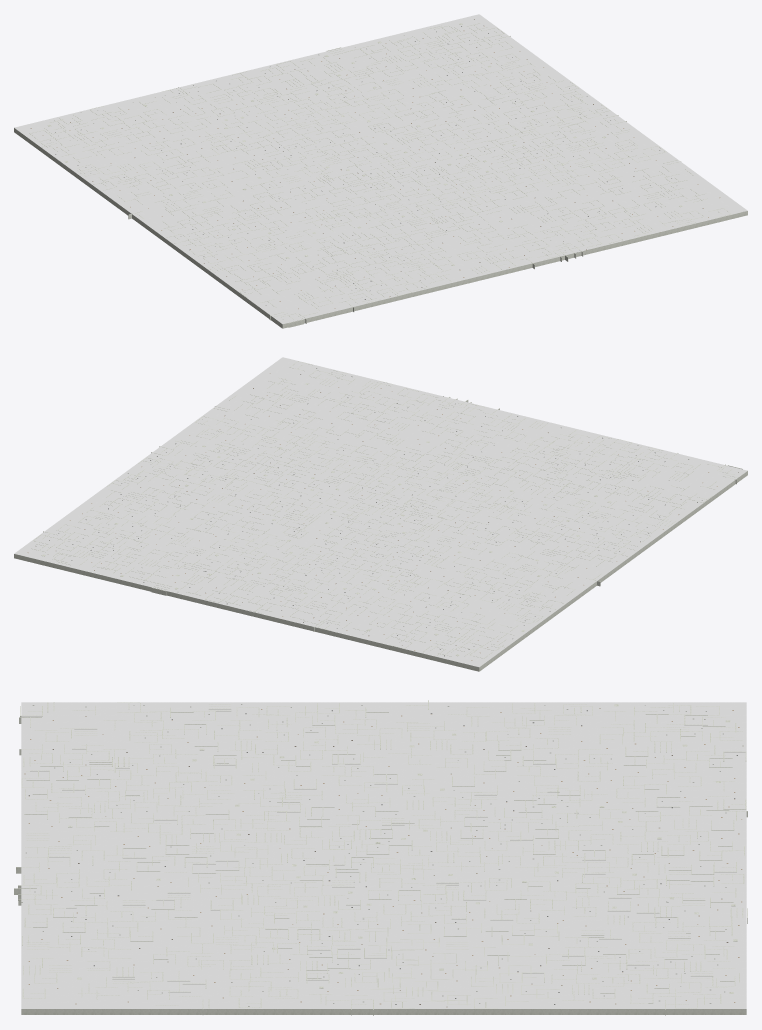
Rendered from Backrooms.fbx.
3 views of the same model, one above another, from view 1: azimuth 30°, elevation 25°; view 2: azimuth 150°, elevation 25°; view 3: azimuth 270°, elevation 25° (orthographic). The views are drawn at different scales.
Visible parts, largest first — view 1: _Ceiling, _Walls, Cektor_5, Cektor_16, Cektor_2, Cektor_8, Cektor_1, Cektor_3, Cektor_7, Cektor_13, Cektor_15, Cektor_11 (+6 smaller); view 2: _Ceiling, _Walls, Cektor_5, Cektor_2, Cektor_16, Cektor_1, Cektor_3, Cektor_8, Cektor_7, Cektor_13, Cektor_15, Cektor_12 (+6 smaller); view 3: _Ceiling, _Walls, Cektor_5, Cektor_8, Cektor_16, Cektor_1, Cektor_2, Cektor_3, Cektor_7, Cektor_13, Cektor_15, Cektor_4 (+6 smaller).
Boxes of the visible parts, x1,y1,x2,y2 form: _Ceiling: [14, 14, 747, 324]; _Walls: [14, 19, 747, 328]; Cektor_5: [233, 47, 434, 132]; Cektor_16: [224, 242, 411, 327]; Cektor_2: [421, 68, 609, 151]; Cektor_8: [430, 190, 601, 269]; Cektor_1: [359, 23, 534, 89]; Cektor_3: [498, 115, 665, 192]; Cektor_7: [364, 146, 543, 218]; Cektor_13: [29, 104, 219, 176]; Cektor_15: [162, 198, 315, 272]; Cektor_11: [253, 163, 415, 246]; _Ceiling: [14, 357, 747, 667]; _Walls: [14, 368, 747, 671]; Cektor_5: [144, 523, 341, 613]; Cektor_2: [99, 457, 290, 533]; Cektor_16: [548, 439, 742, 519]; Cektor_1: [31, 507, 193, 582]; Cektor_3: [151, 416, 334, 481]; Cektor_8: [354, 394, 525, 470]; Cektor_7: [283, 444, 462, 516]; Cektor_13: [366, 579, 543, 658]; Cektor_15: [505, 498, 675, 570]; Cektor_12: [461, 421, 614, 494]; _Ceiling: [21, 702, 746, 1008]; _Walls: [21, 704, 746, 1014]; Cektor_5: [515, 844, 747, 931]; Cektor_8: [14, 843, 239, 927]; Cektor_16: [19, 702, 218, 792]; Cektor_1: [545, 926, 739, 1015]; Cektor_2: [362, 919, 559, 1008]; Cektor_3: [191, 922, 377, 1015]; Cektor_7: [218, 839, 384, 927]; Cektor_13: [534, 703, 746, 791]; Cektor_15: [209, 703, 418, 780]; Cektor_4: [22, 917, 210, 1014].
Bounding box in the file's own units: 32042 × 300 × 32131.
Materials: 4 (3 with a texture image).
